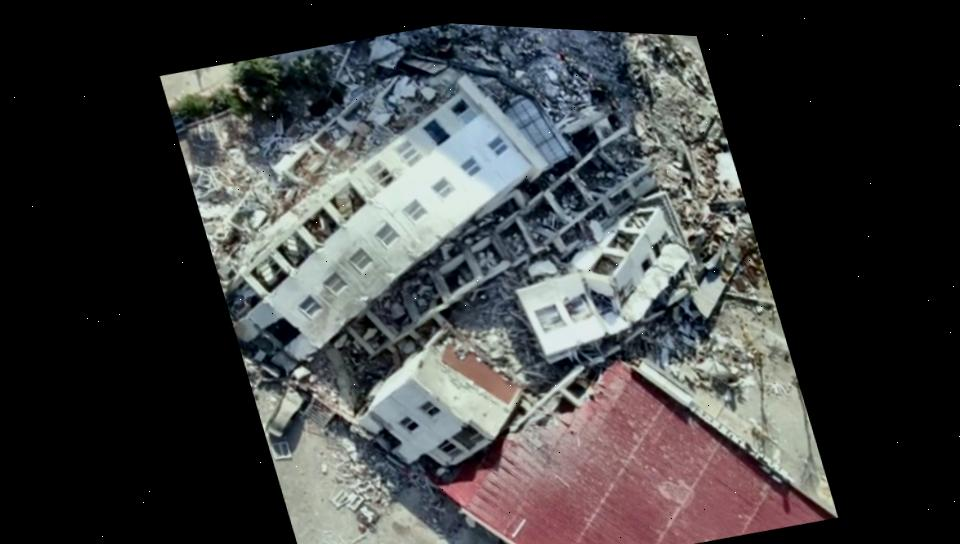kapali: (473, 25, 757, 242)
